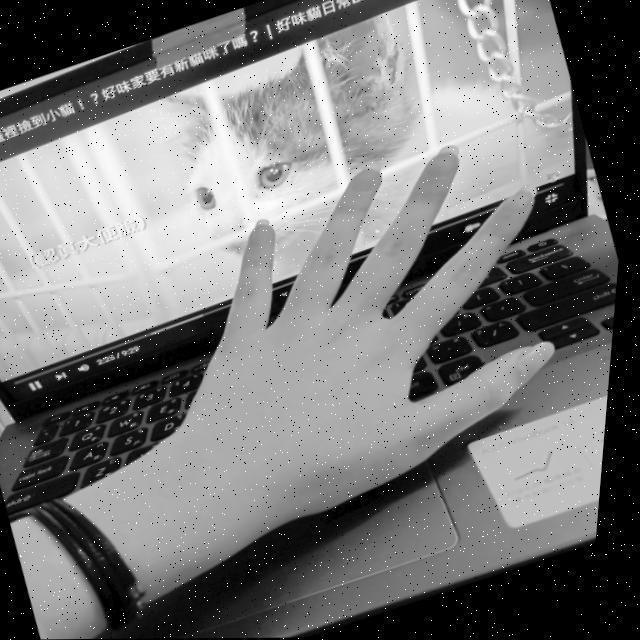no-gloves: (127, 110, 621, 539)
